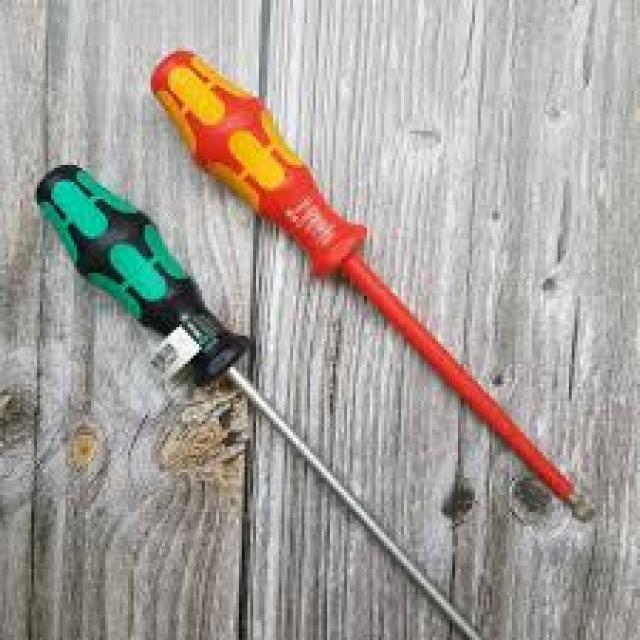screwdriver: (148, 46, 603, 526)
